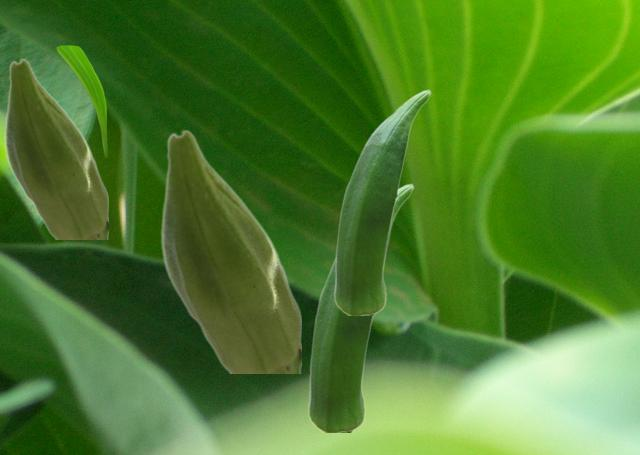okra: (160, 129, 300, 372), (307, 183, 413, 431), (333, 89, 430, 314), (4, 58, 107, 238)
